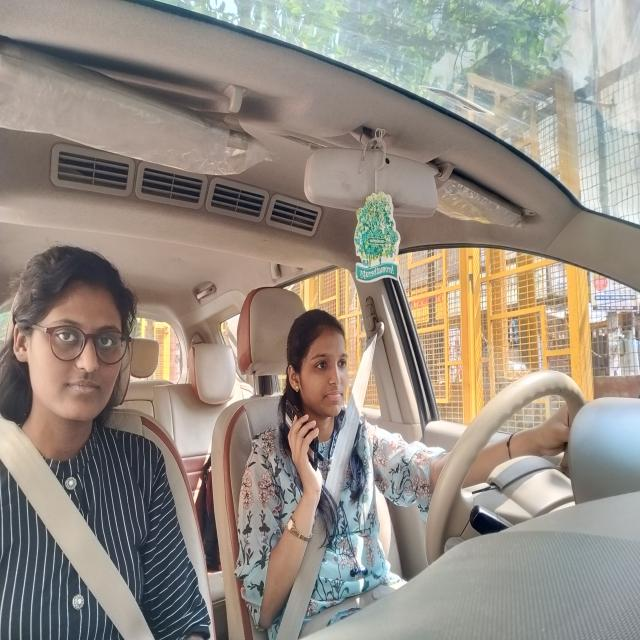mobile: (282, 398, 322, 472)
person: (15, 241, 141, 426), (285, 305, 350, 421)
